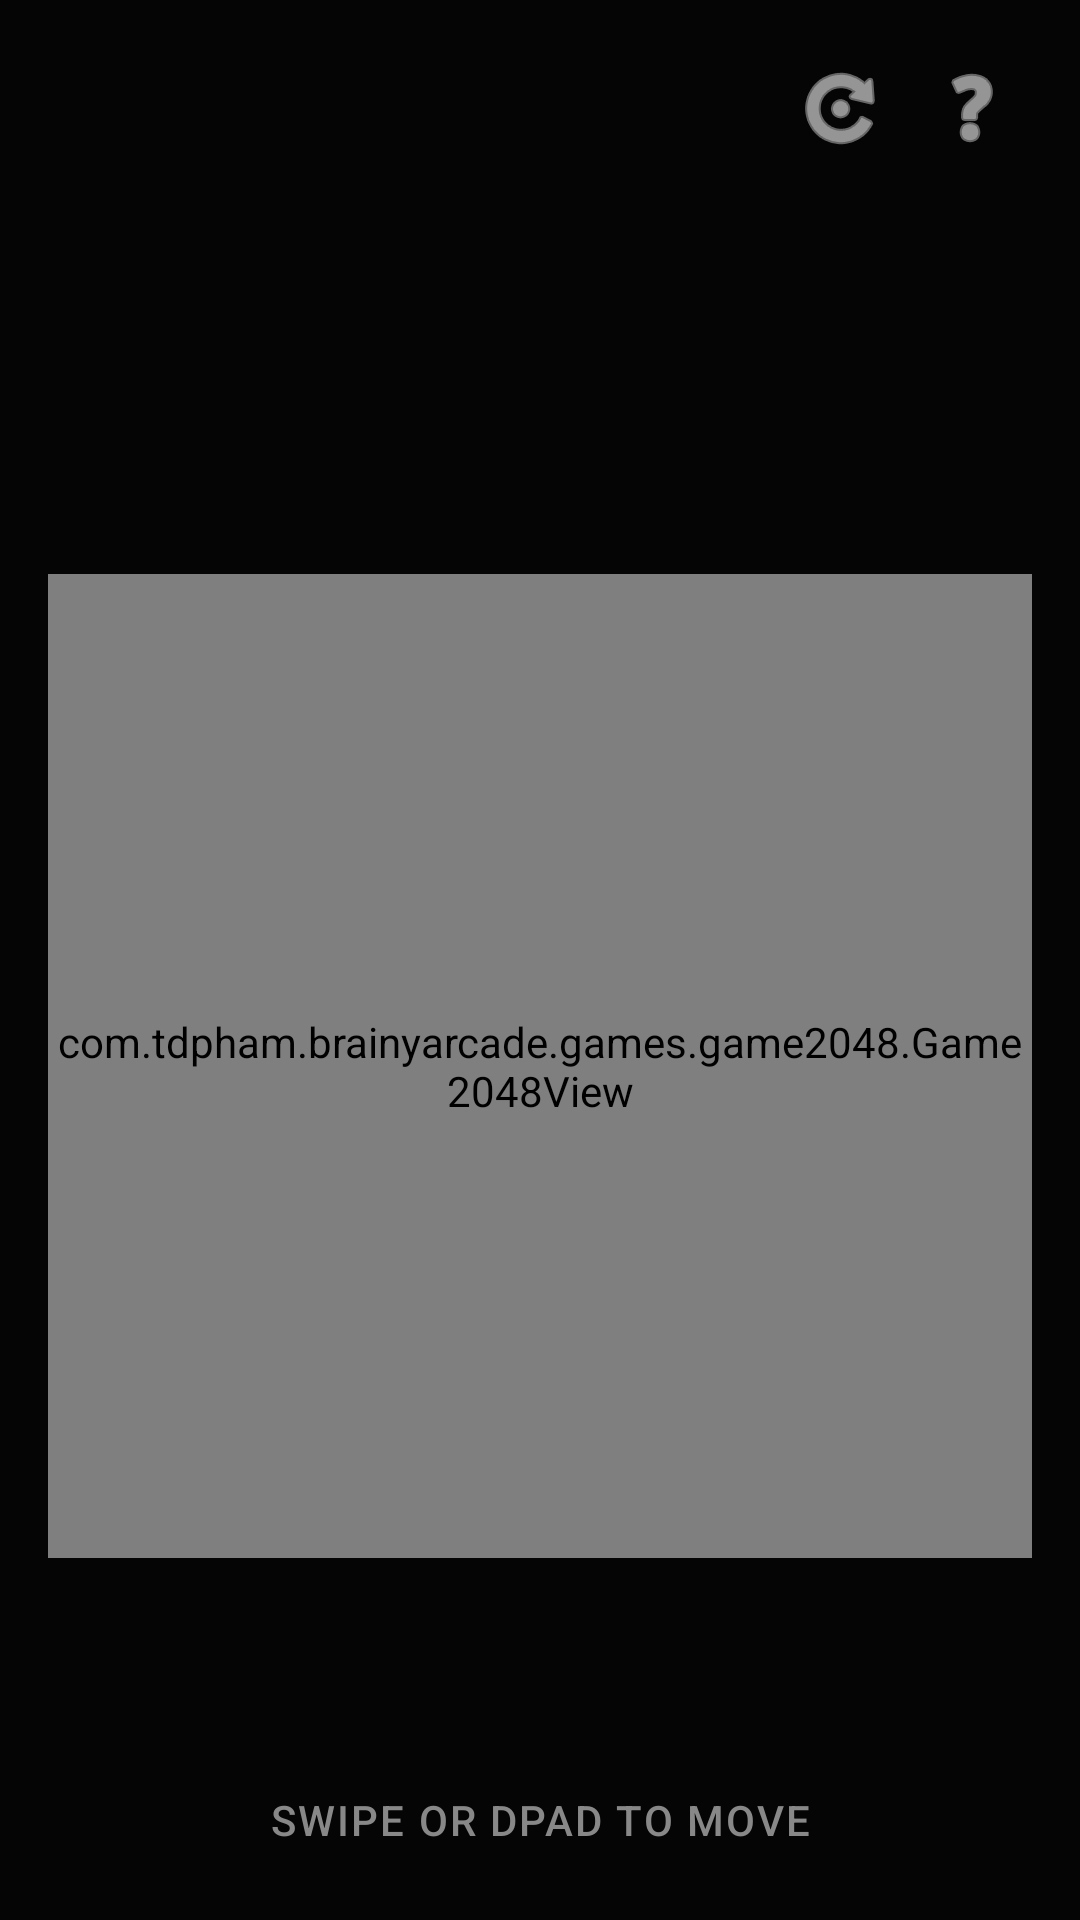

Named icons in this screenshot (1080w x 1920h) and their bounding boxes, (x1=x1, y1=y1, x2=x2, y2=y2):
How to Play: (x1=951, y1=74, x2=993, y2=142)
New Game: (x1=805, y1=73, x2=875, y2=144)
